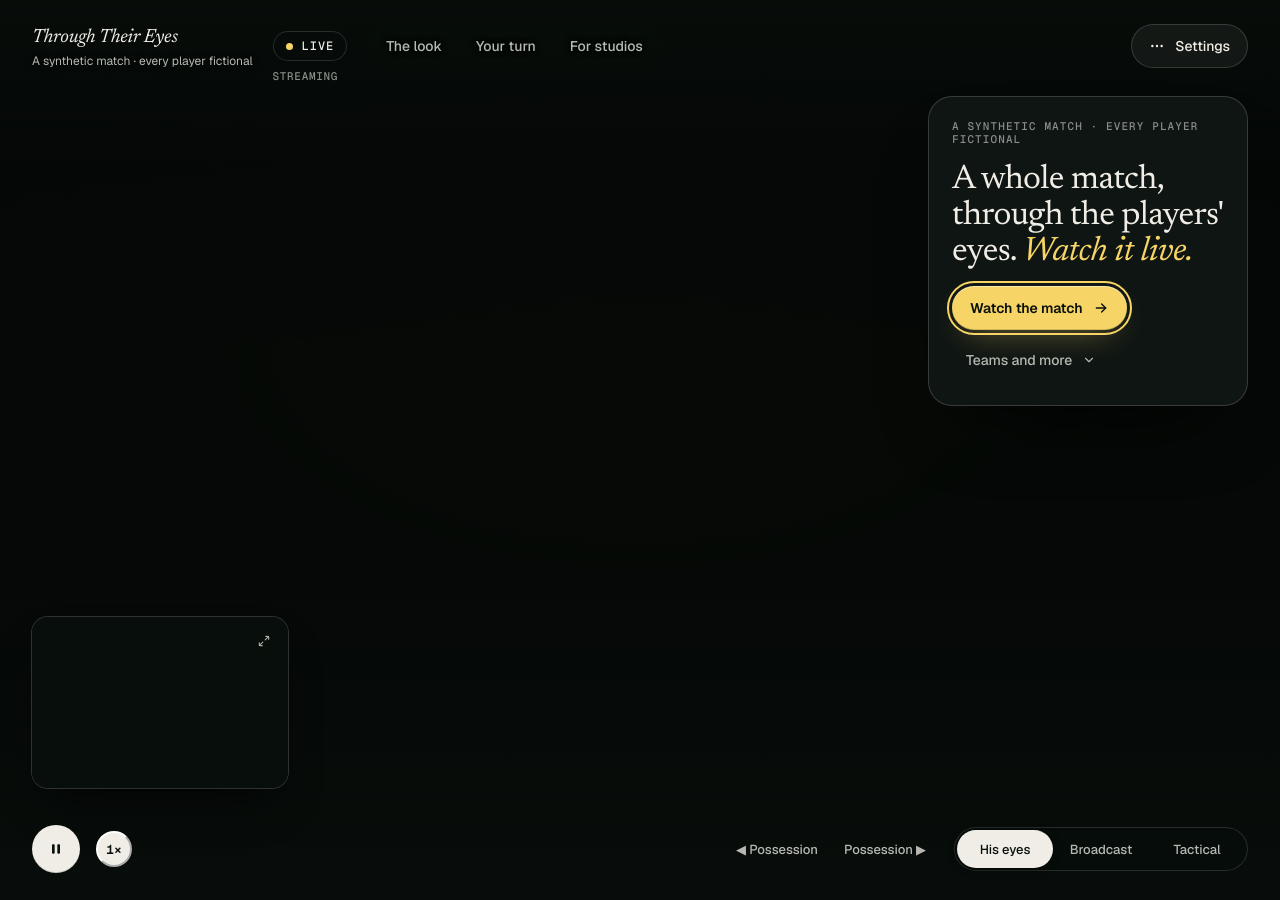
the pre-match autoplay gate › on a cold load of a stitched match, the stream plays behind the card, which waits
Expected: the dialog is shown, [928,96,1248,406]
Click the button "Watch the match": (1039, 308) [952,286,1127,330]
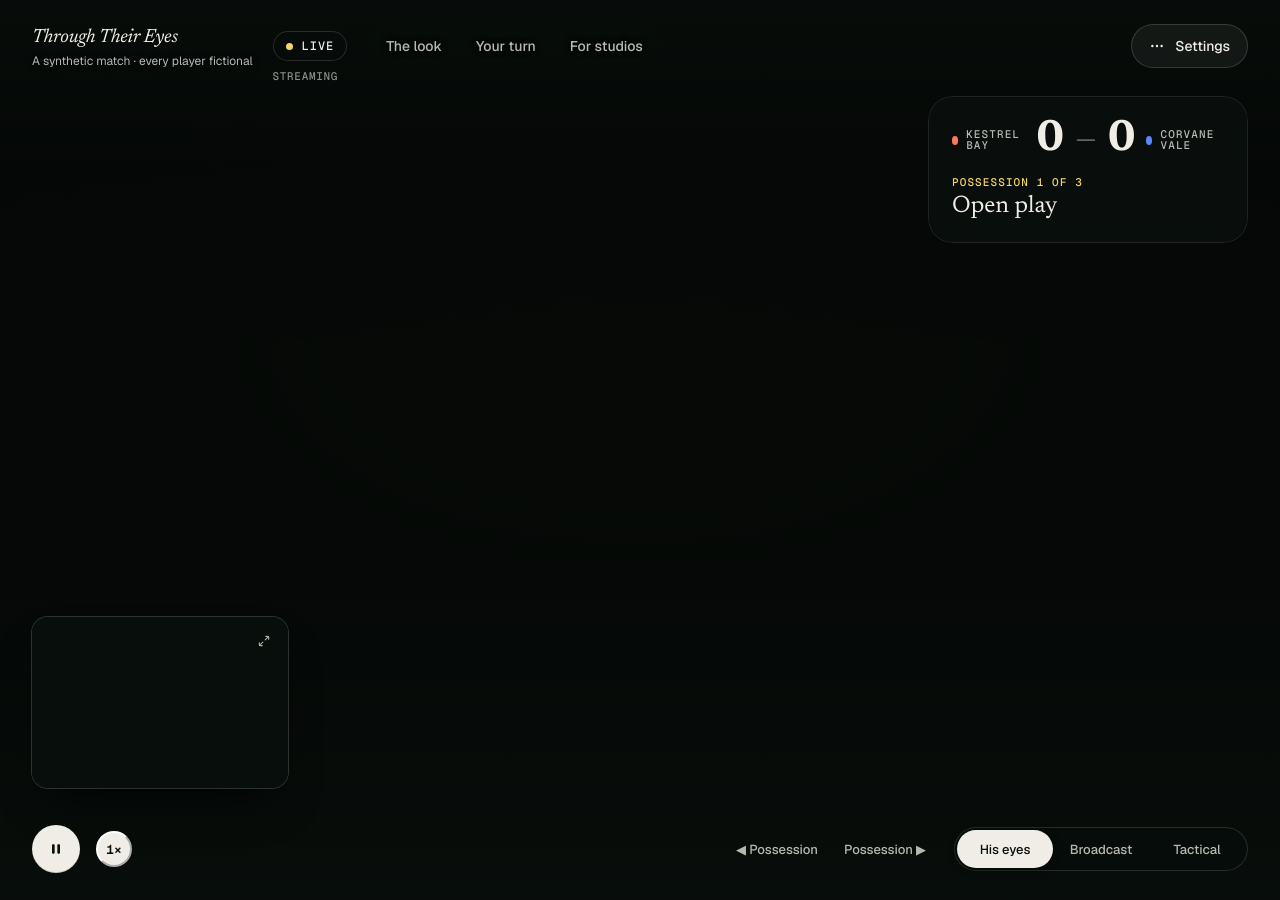
Expected: the dialog is gone
